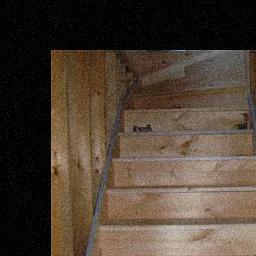Escaleras: (58, 58, 256, 256)
